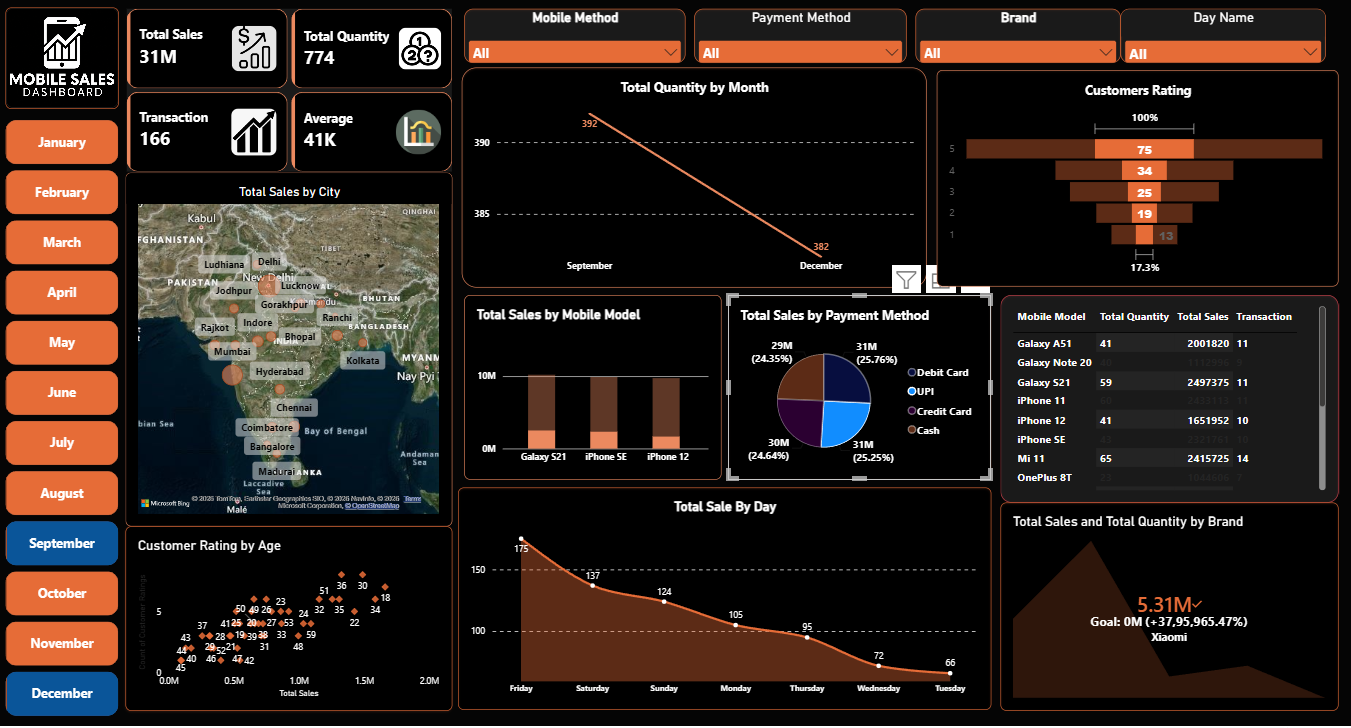

The page's visual inventory and layout, read from the dashboard file:
{"tool":"powerbi","page":{"name":"Page 1","canvas":[1920,1080],"ordinal":0},"visuals":[{"type":"image","box":[10.9,10.9,153.8,137.5],"z":0},{"type":"advancedSlicerVisual","fields":{"Values":["Sheet1.Date.Variation.Date Hierarchy.Month"]},"box":[10.9,162.9,153.3,815],"z":1000},{"type":"cardVisual","fields":{"Data":["Sheet1.Total Sales","Sheet1.Total Quantity","Sheet1.Transaction","Sheet1.Average"]},"box":[174.3,11.4,442.9,222.9],"z":2000},{"type":"map","fields":{"Category":["Sheet1.City"],"Size":["Sheet1.Total Sales"]},"box":[173.3,233.3,443.3,480],"z":3000},{"type":"lineChart","fields":{"Category":["Sheet1.Date.Variation.Date Hierarchy.Month","Sheet1.Date.Variation.Date Hierarchy.Day"],"Y":["Sheet1.Total Quantity"]},"box":[628.3,91.7,630,298.6],"z":4000},{"type":"clusteredColumnChart","fields":{"Category":["Sheet1.Mobile Model"],"Y":["Sheet1.Total Sales"]},"box":[631.7,400,348.6,250],"z":5000},{"type":"pieChart","fields":{"Category":["Sheet1.Payment Method"],"Y":["Sheet1.Total Sales"]},"box":[990,400,357.1,250],"z":6000},{"type":"funnel","title":"Customers Rating","fields":{"Category":["Sheet1.Customer Ratings"],"Y":["CountNonNull(Sheet1.Customer Ratings)"]},"box":[1273.3,95,545,293.3],"z":7000},{"type":"areaChart","title":"Total Sale By Day","fields":{"Category":["Sheet1.Day Name"],"Y":["Sheet1.Total Quantity"]},"box":[623.3,661.7,723.3,301.7],"z":8000},{"type":"tableEx","fields":{"Values":["Sheet1.Mobile Model","Sheet1.Total Quantity","Sheet1.Total Sales","Sheet1.Transaction"]},"box":[1360,400,458.3,281.7],"z":9000},{"type":"slicer","title":"Mobile Method","fields":{"Values":["Sheet1.Mobile Model"]},"box":[631.7,11.7,300,73.3],"z":10000},{"type":"slicer","title":"Payment Method","fields":{"Values":["Sheet1.Payment Method"]},"box":[943.3,11.7,288.3,73.3],"z":11000},{"type":"slicer","title":"Brand","fields":{"Values":["Sheet1.Brand"]},"box":[1243.3,11.7,278.3,73.3],"z":12000},{"type":"slicer","title":"Day Name","fields":{"Values":["Sheet1.City"]},"box":[1521.7,11.7,278.3,73.3],"z":13000},{"type":"kpi","fields":{"Goal":["Sheet1.Total Quantity"],"Indicator":["Sheet1.Total Sales"],"TrendLine":["Sheet1.Brand"]},"box":[1360,682,458,282],"z":13001},{"type":"scatterChart","title":"Customer Rating by Age ","fields":{"Category":["Sheet1.Customer Age"],"X":["Sheet1.Total Sales"],"Y":["CountNonNull(Sheet1.Customer Ratings)"]},"box":[173,713,443,250],"z":13002}]}

Visuals, with their boxes on the page's 1920x1080 design canvas (x1, y1, x2, y2). These are canvas units, not pixel positions in the 1351x728 screenshot, which may show the page scaled, cropped or inside an application window:
image: <box>11,11,165,148</box>
advancedSlicerVisual - Sheet1.Date.Variation.Date Hierarchy.Month: <box>11,163,164,978</box>
cardVisual - Sheet1.Total Sales x Sheet1.Total Quantity: <box>174,11,617,234</box>
map - Sheet1.City x Sheet1.Total Sales: <box>173,233,617,713</box>
lineChart - Sheet1.Date.Variation.Date Hierarchy.Month x Sheet1.Date.Variation.Date Hierarchy.Day: <box>628,92,1258,390</box>
clusteredColumnChart - Sheet1.Mobile Model x Sheet1.Total Sales: <box>632,400,980,650</box>
pieChart - Sheet1.Payment Method x Sheet1.Total Sales: <box>990,400,1347,650</box>
"Customers Rating" funnel: <box>1273,95,1818,388</box>
"Total Sale By Day" areaChart: <box>623,662,1347,963</box>
tableEx - Sheet1.Mobile Model x Sheet1.Total Quantity: <box>1360,400,1818,682</box>
"Mobile Method" slicer: <box>632,12,932,85</box>
"Payment Method" slicer: <box>943,12,1232,85</box>
"Brand" slicer: <box>1243,12,1522,85</box>
"Day Name" slicer: <box>1522,12,1800,85</box>
kpi - Sheet1.Total Quantity x Sheet1.Total Sales: <box>1360,682,1818,964</box>
"Customer Rating by Age " scatterChart: <box>173,713,616,963</box>
